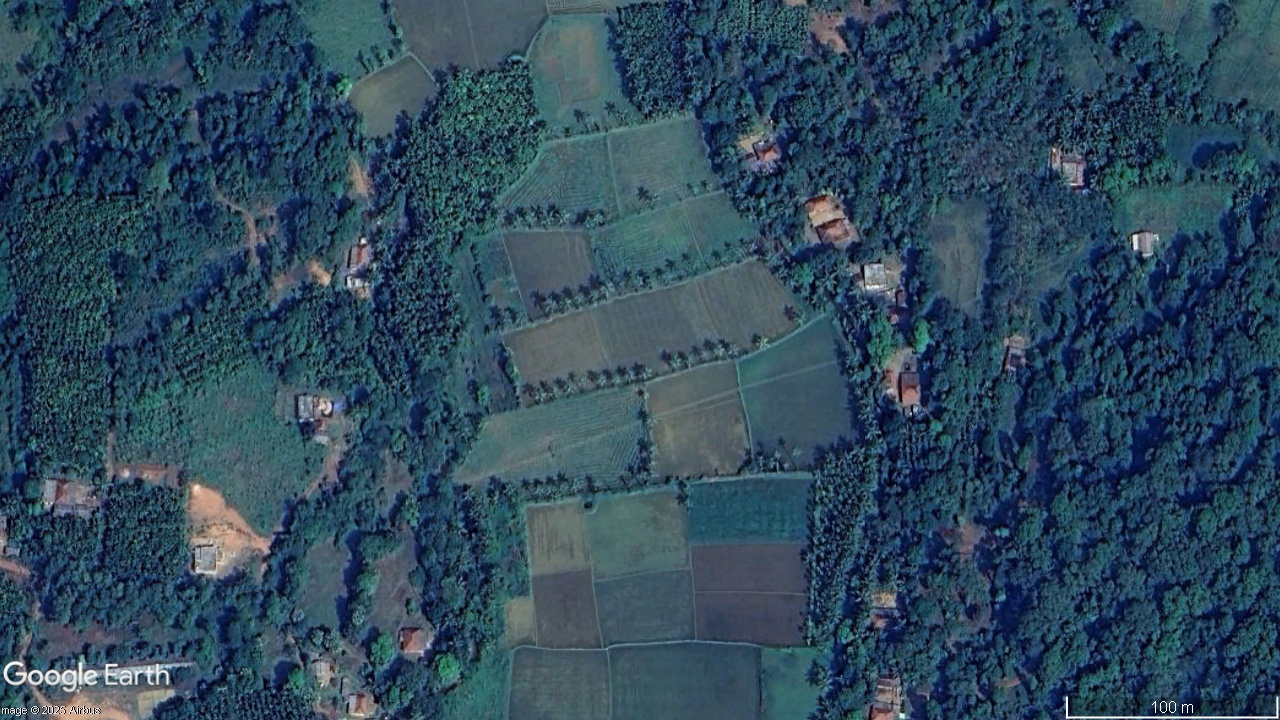arecanut: (394, 60, 525, 363), (10, 183, 131, 483), (85, 477, 197, 581), (807, 439, 863, 639), (620, 2, 706, 112), (178, 315, 260, 385), (1107, 87, 1170, 173)
